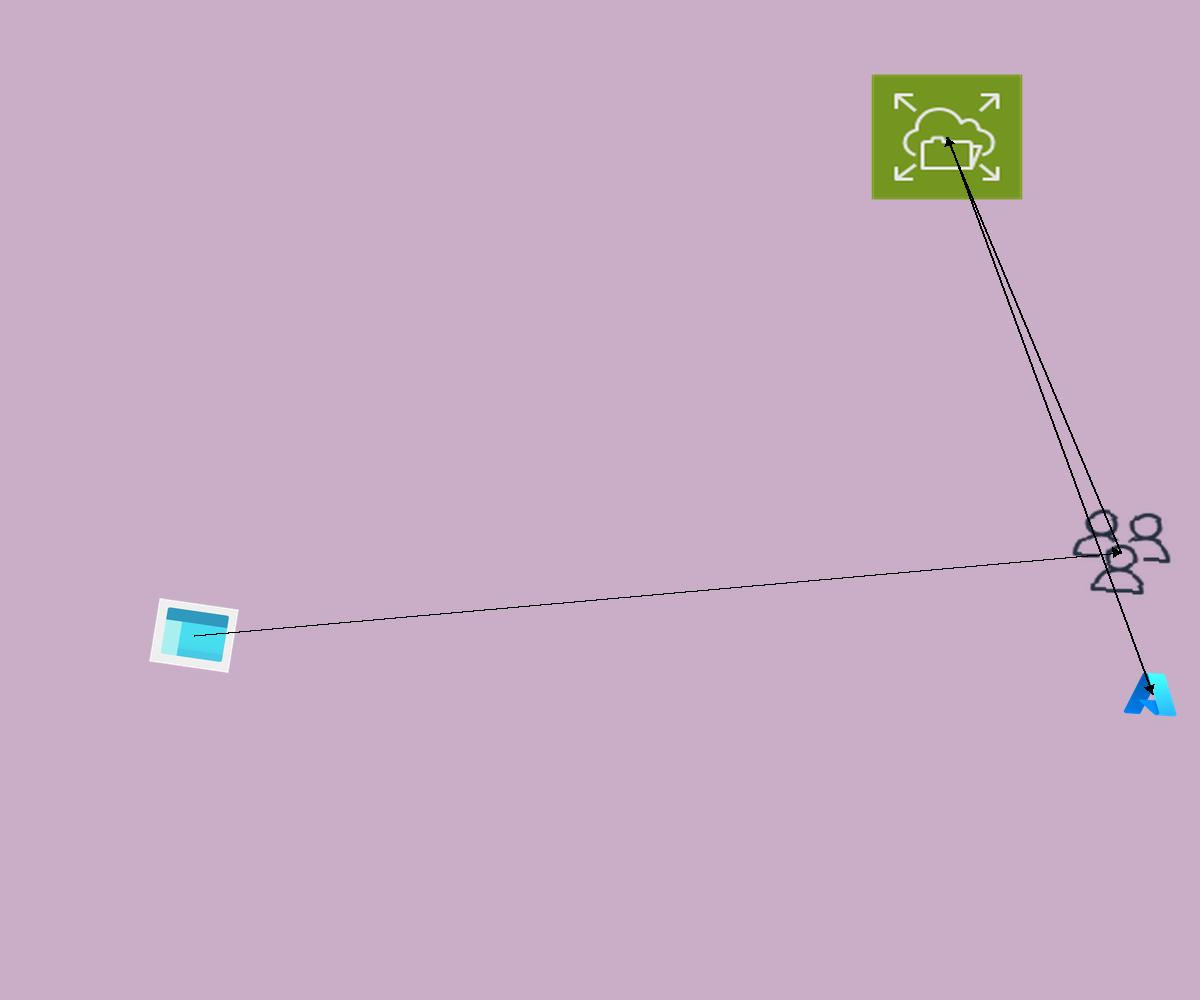AWS-EFS: (870, 73, 1024, 201)
AWS-Res_Users: (1064, 504, 1179, 600)
Azure_management-portal: (149, 598, 239, 673)
Azure_services: (1121, 668, 1183, 720)
